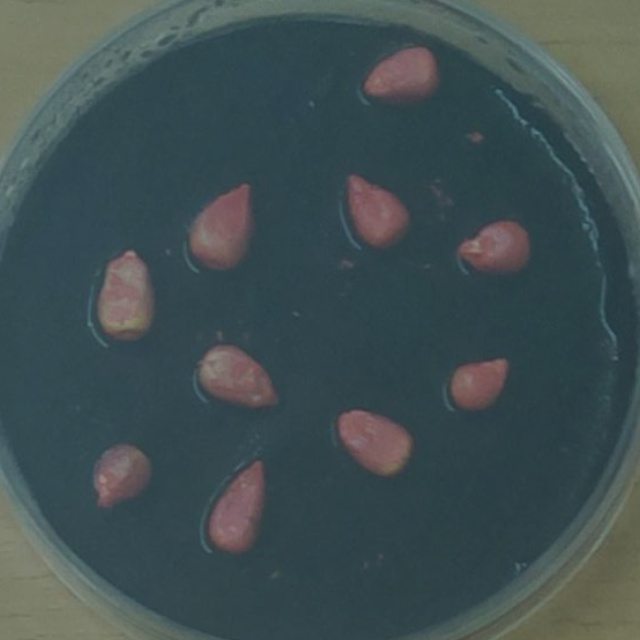Zea mays: (180, 174, 264, 284), (196, 450, 274, 563), (87, 241, 165, 352), (188, 336, 289, 421), (329, 400, 421, 488), (336, 165, 419, 259), (354, 41, 447, 115), (85, 435, 161, 517), (450, 214, 539, 284), (440, 351, 517, 421)
